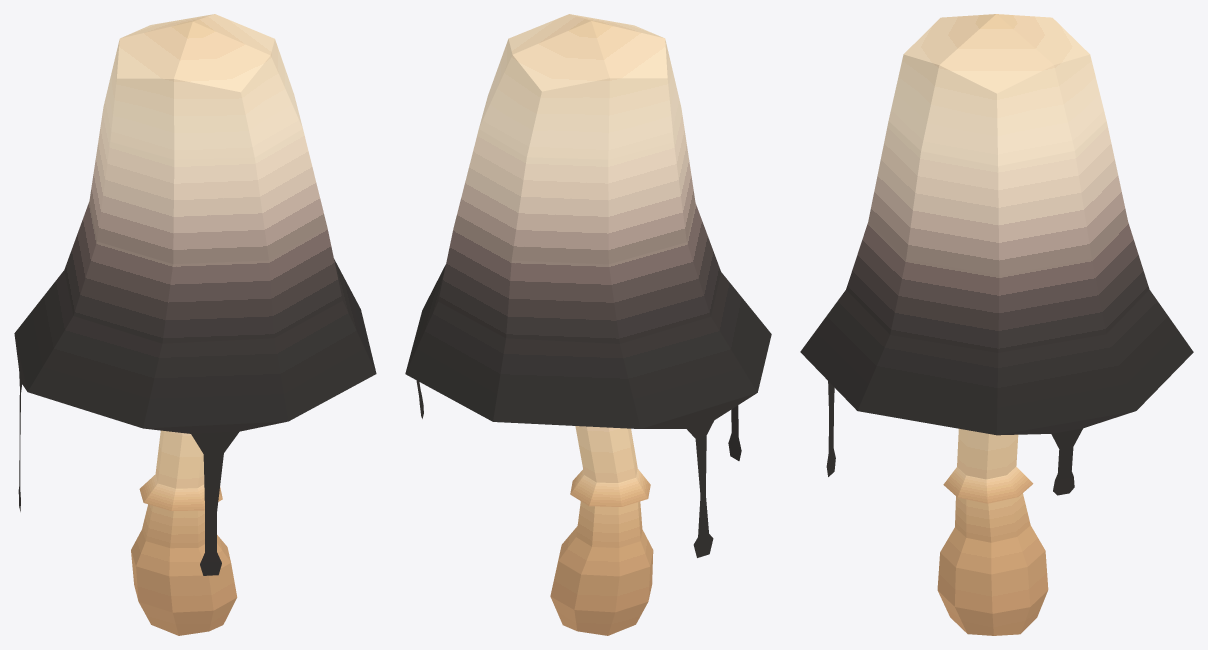
File: Ink2_InkCap.glb
The picture shows the model from 3 angles, left to right: view 1: azimuth 30°, elevation 25°; view 2: azimuth 150°, elevation 25°; view 3: azimuth 270°, elevation 25°; orthographic projection. The views are drawn at different scales.
Parts seen in each view (by area): view 1: ink_2; view 2: ink_2; view 3: ink_2.
Part boxes in pixels (x1=…): ink_2: x1=14, y1=14, x2=376, y2=635; ink_2: x1=405, y1=14, x2=771, y2=635; ink_2: x1=800, y1=14, x2=1193, y2=635.
Bounding box in the file's own units: 4.76 × 8.29 × 4.74.
1 material, 1 textured.
